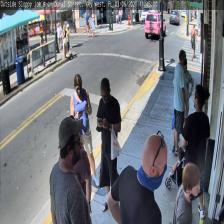person: (107, 133, 167, 223), (49, 117, 92, 223), (182, 83, 210, 219), (57, 115, 92, 223), (96, 78, 121, 210), (70, 74, 99, 186), (174, 60, 194, 146), (172, 162, 200, 223), (172, 50, 187, 156)
